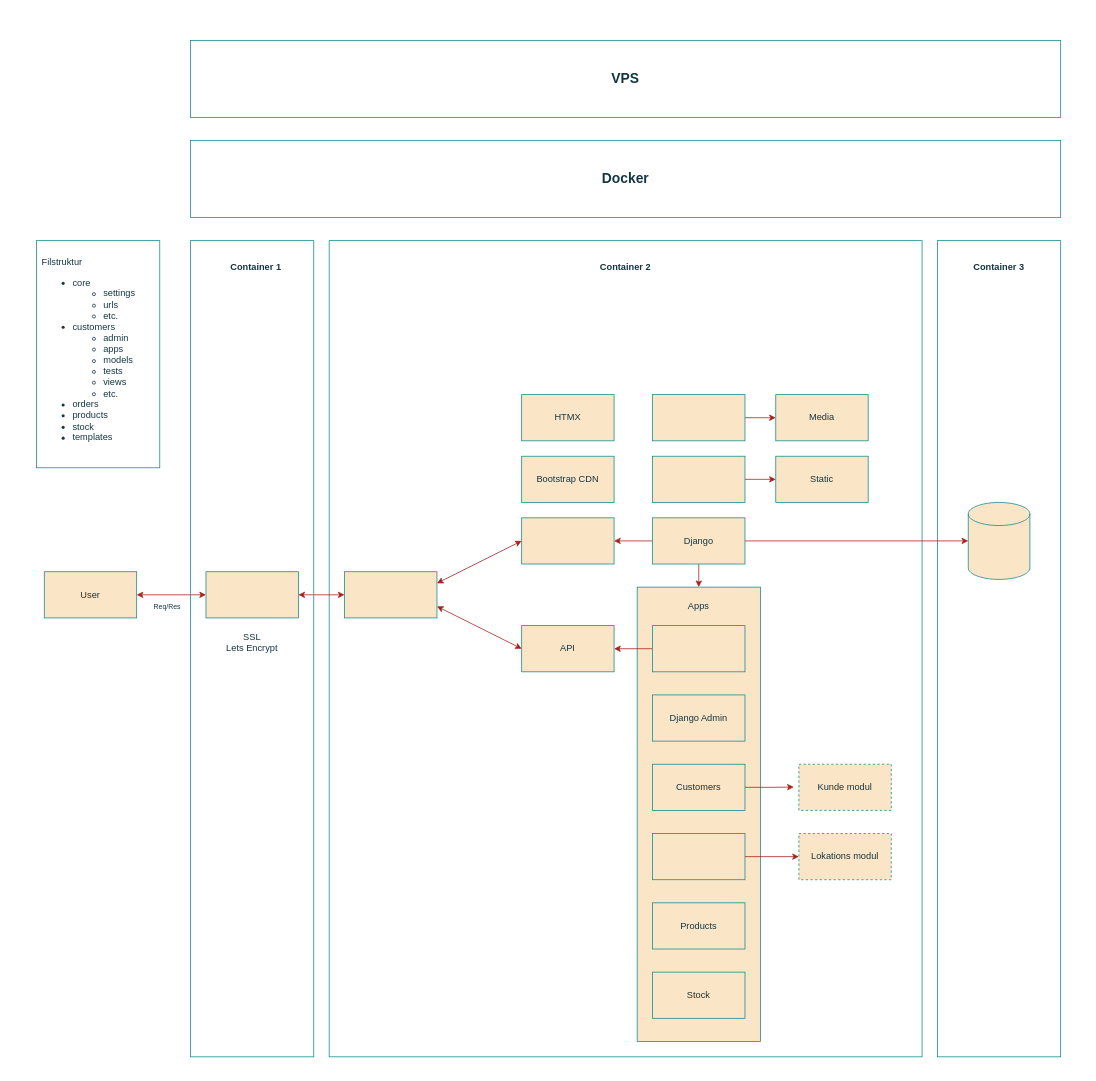
This 1096x1081 diagram has some shape labels left out. Here are the shapes that lost their labels. From the top down, the centre of each, then its label:
the point at 698,417: AWS S3
the point at 698,478: Whitenoise
the point at 567,540: Views Get, post
the point at 999,540: Postgres
the point at 251,594: Traefik
the point at 390,594: Gunicorn
the point at 698,648: Django Ninja
the point at 698,856: Orders
